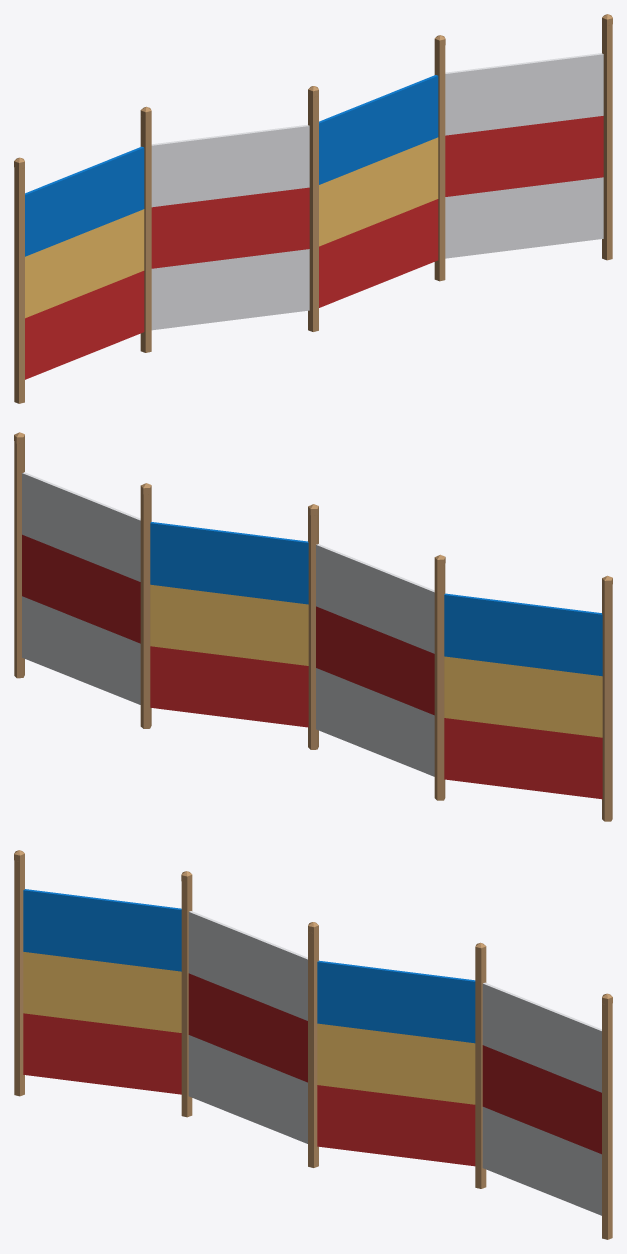
The model's file is windschutz.glb.
The picture shows the model from 3 angles, top to bottom: view 1: azimuth 30°, elevation 25°; view 2: azimuth 150°, elevation 25°; view 3: azimuth 330°, elevation 25°; orthographic projection.
Visible parts, largest first — view 1: windschutz-m; view 2: windschutz-m; view 3: windschutz-m.
Boxes of the visible parts, x1,y1,x2,y2 form: windschutz-m: (14, 14, 612, 403); windschutz-m: (14, 432, 612, 821); windschutz-m: (14, 850, 612, 1239).
Bounding box in the file's own units: 3.05 × 1.19 × 0.227.
